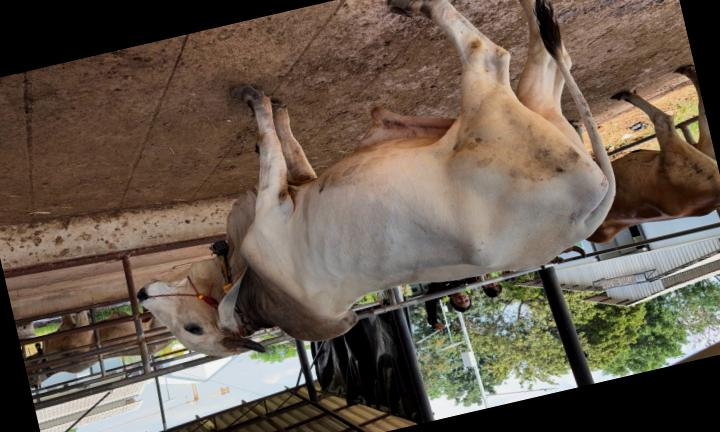Brahman: (141, 0, 616, 356), (328, 209, 330, 212)
